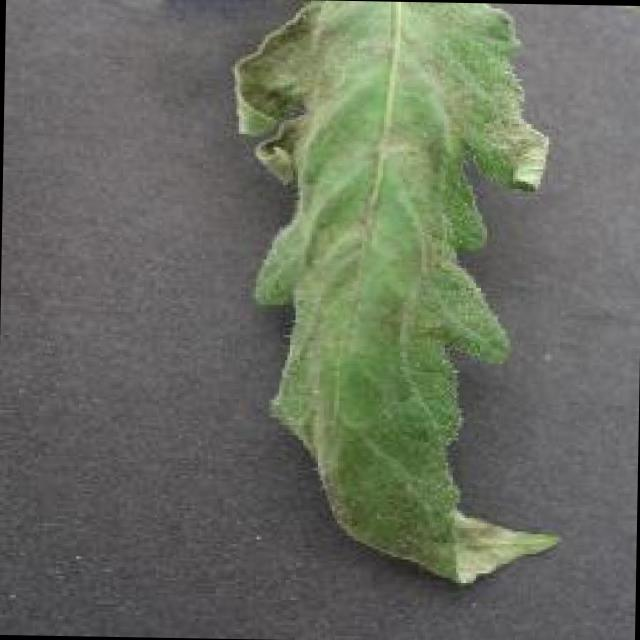Tomato_Late_Blight: (225, 7, 368, 218)
